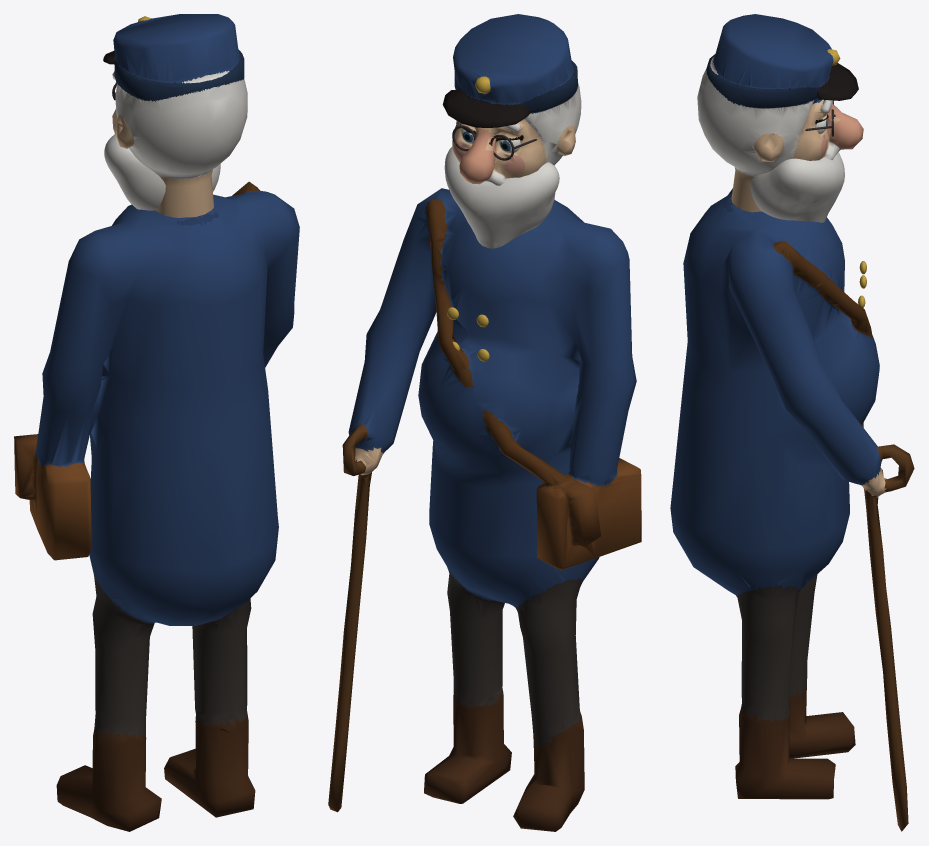
Rendered from pind.glb.
3 renders of one model, left to right at view 1: azimuth 30°, elevation 25°; view 2: azimuth 150°, elevation 25°; view 3: azimuth 270°, elevation 25°, orthographic. The views are drawn at different scales.
Visible parts, largest first — view 1: body_lod0, head_lod0, beard_lod0; view 2: body_lod0, head_lod0, beard_lod0; view 3: body_lod0, head_lod0, beard_lod0.
Part boxes in pixels (bbox=[...]): body_lod0: bbox=[14, 181, 299, 831]; head_lod0: bbox=[103, 14, 247, 217]; beard_lod0: bbox=[104, 134, 220, 210]; body_lod0: bbox=[328, 188, 641, 831]; head_lod0: bbox=[442, 14, 581, 185]; beard_lod0: bbox=[444, 146, 559, 248]; body_lod0: bbox=[670, 188, 914, 831]; head_lod0: bbox=[697, 14, 863, 212]; beard_lod0: bbox=[750, 152, 844, 222].
Size of what is drawn, in the model's own units: 0.6578 by 1.89 by 0.5586.
